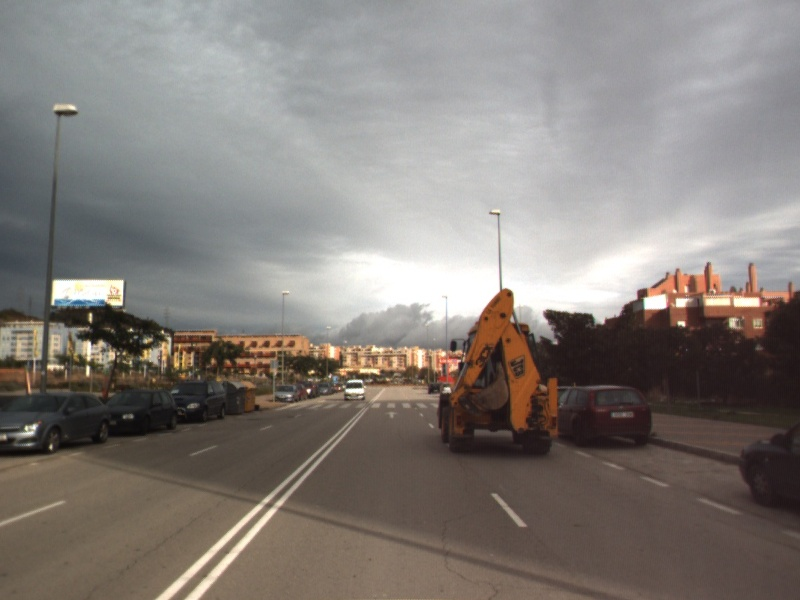STRAIGHT: (383, 410, 400, 420)
